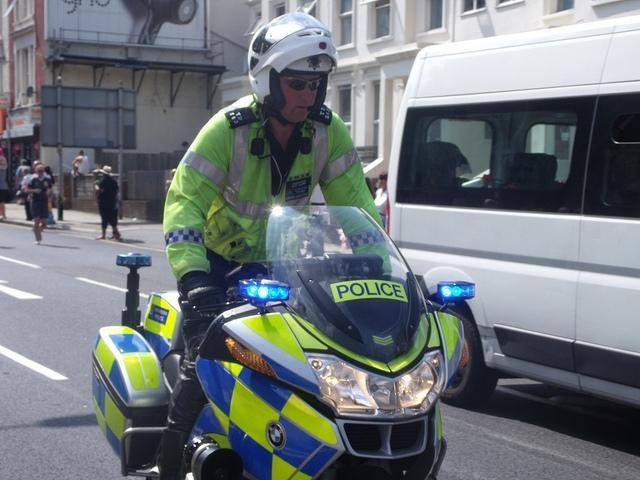bus: (387, 15, 640, 411)
motorcycle: (92, 199, 476, 480)
